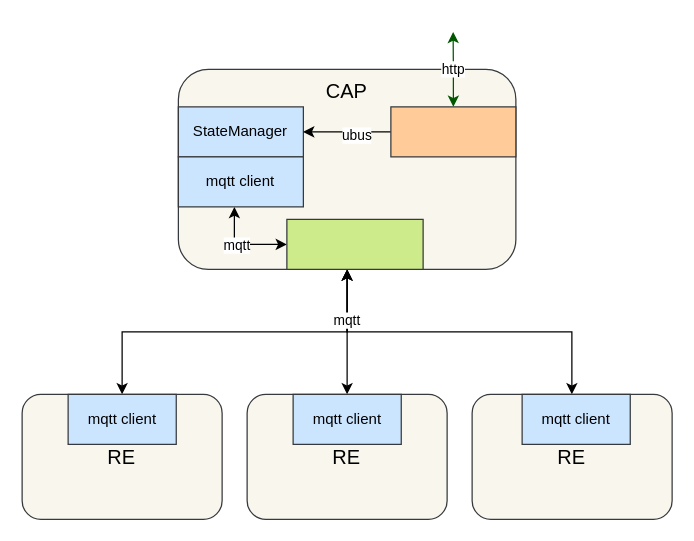
This 694x541 diagram has some shape labels left out. Each missing label, with the centre of its shape:
"Broker" goes at point (354, 243).
"HTTPD" goes at point (453, 131).
